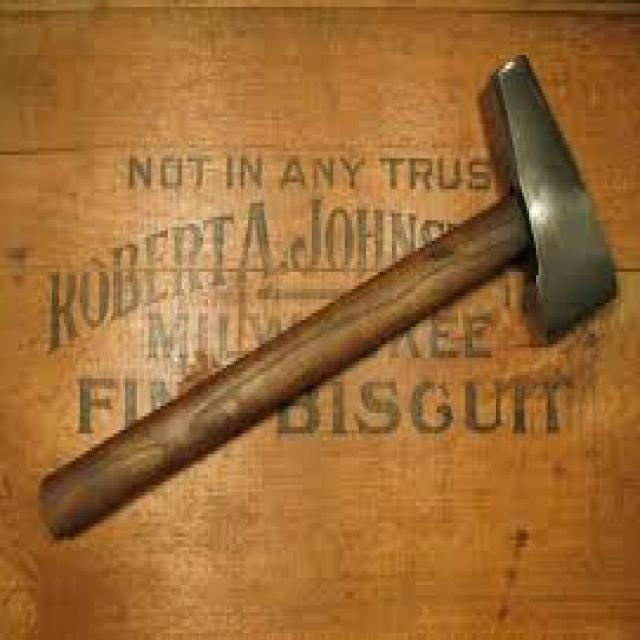hammer: (27, 36, 627, 549)
